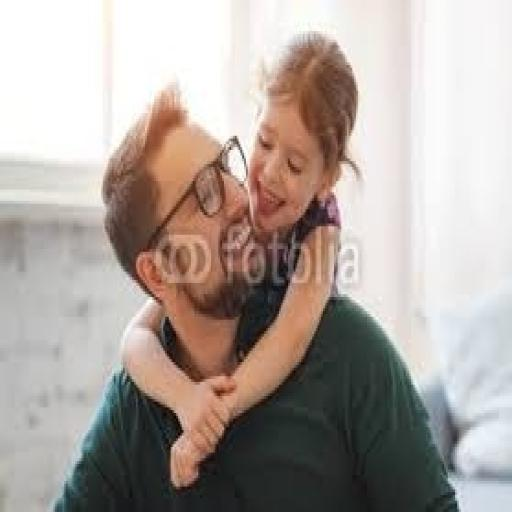hugging: (48, 31, 460, 509)
